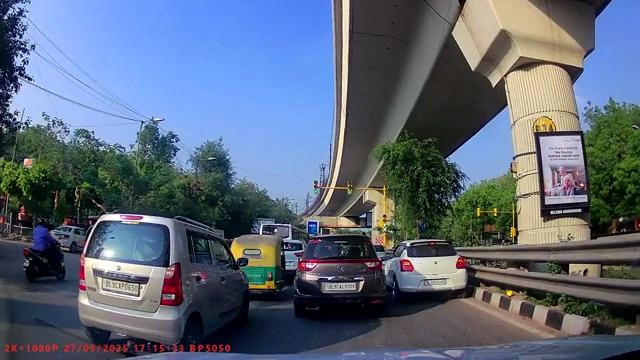motorcycle_with_helmet: (18, 217, 68, 283)
